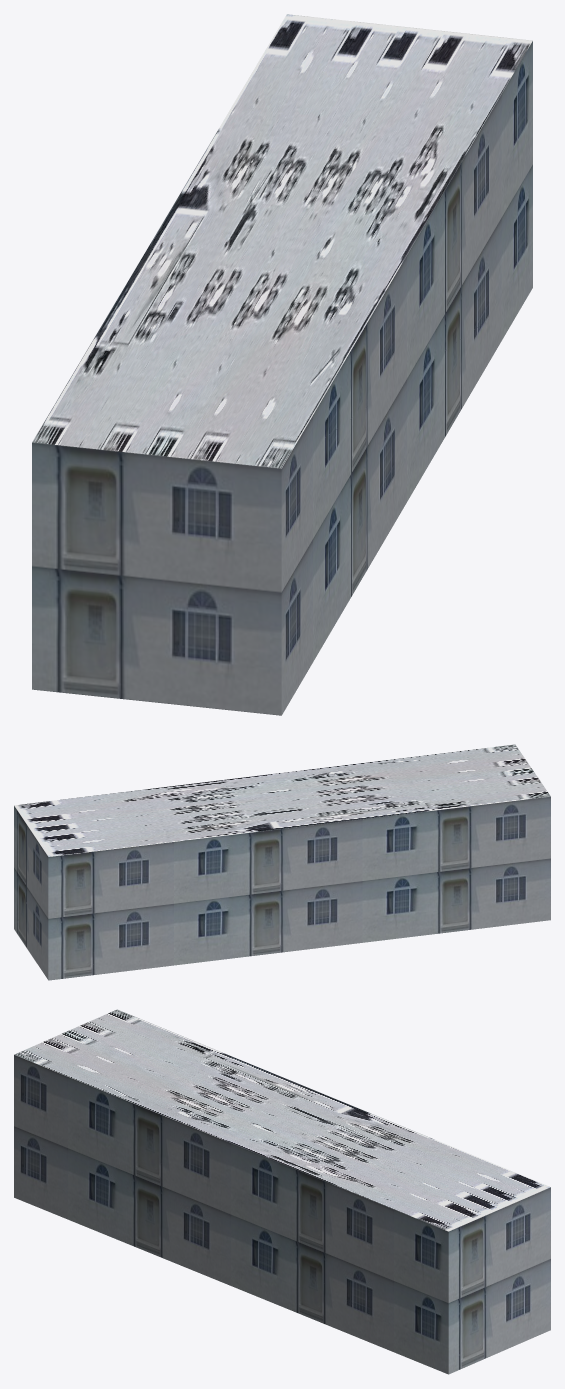
Rendered from ResTex__1786.fbx.
3 views of the same model, one above another, from view 1: azimuth 30°, elevation 25°; view 2: azimuth 150°, elevation 25°; view 3: azimuth 270°, elevation 25° (orthographic). The views are drawn at different scales.
Visible parts, largest first — view 1: CityEngineMaterial_17_m, CityEngineMaterial_8_m; view 2: CityEngineMaterial_17_m, CityEngineMaterial_8_m; view 3: CityEngineMaterial_17_m, CityEngineMaterial_8_m.
Boxes of the visible parts, box(x1,y1,x2,y2) form: CityEngineMaterial_17_m: box(32, 41, 532, 715); CityEngineMaterial_8_m: box(32, 14, 532, 468); CityEngineMaterial_17_m: box(14, 796, 550, 980); CityEngineMaterial_8_m: box(14, 744, 550, 856); CityEngineMaterial_17_m: box(14, 1055, 550, 1374); CityEngineMaterial_8_m: box(14, 1009, 550, 1231).
Size of the model in its own units: 20.01 by 6 by 20.43.
Materials: 2 (2 with a texture image).
